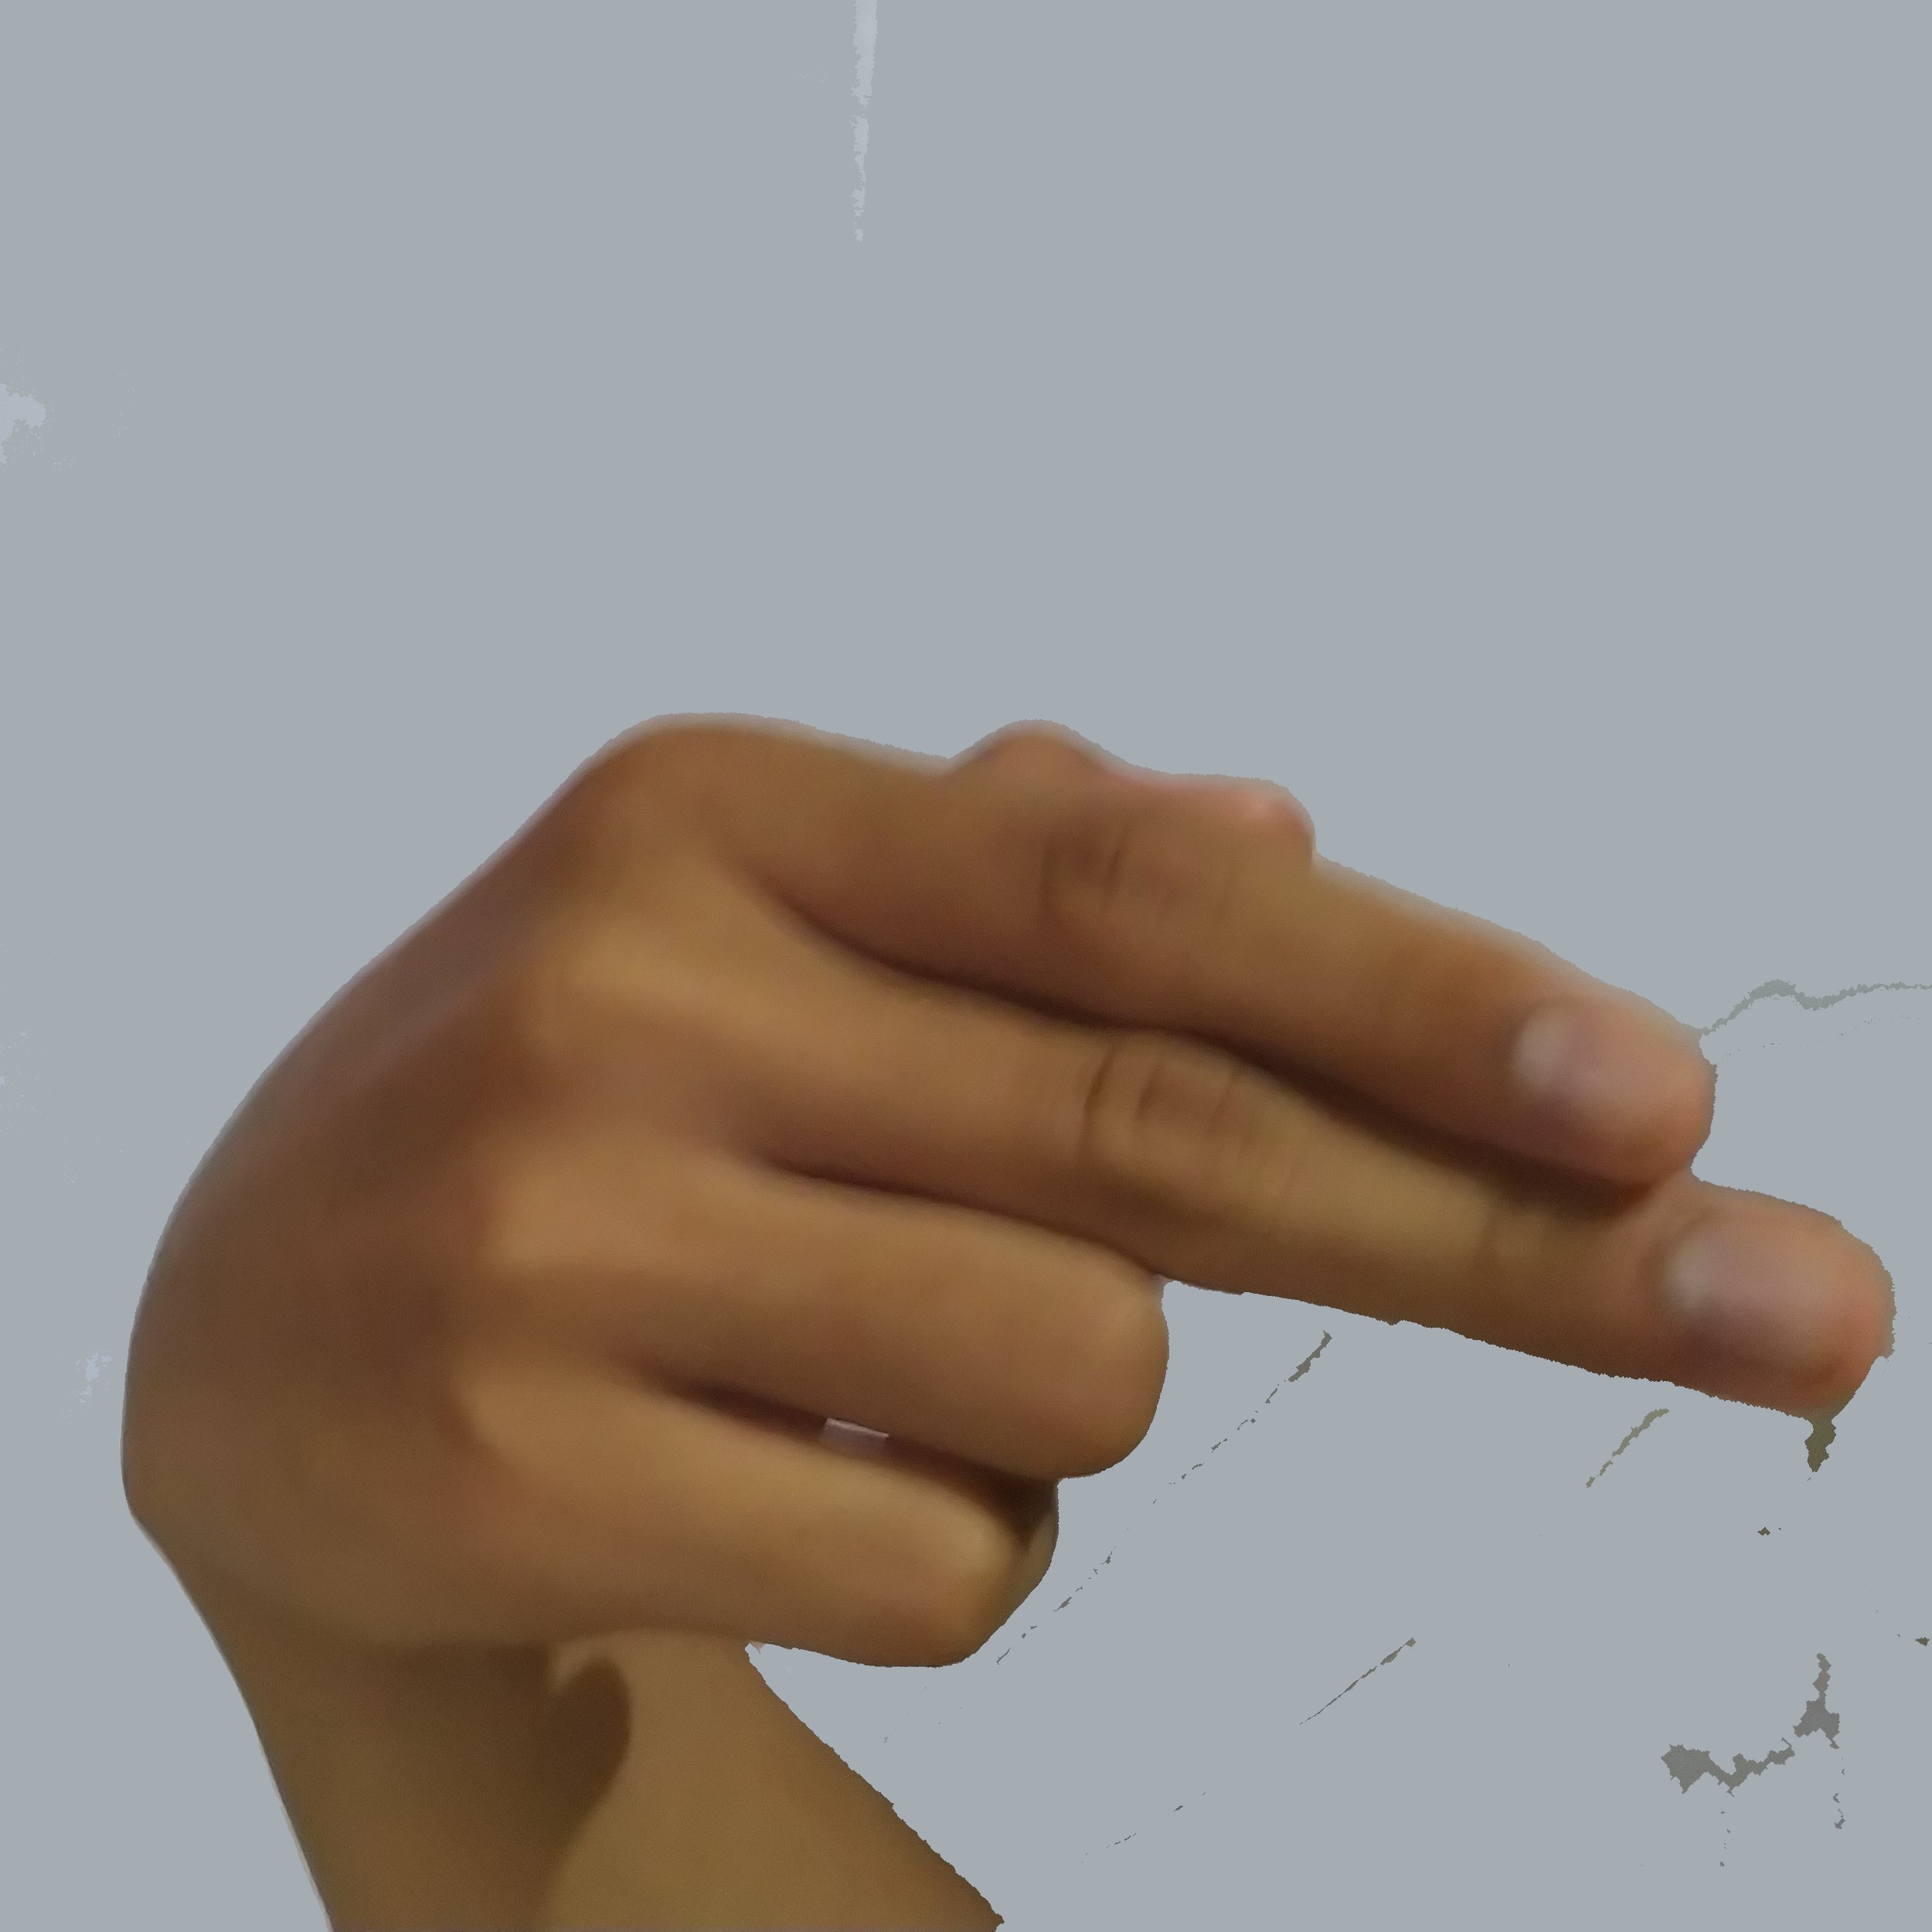H: (110, 688, 1902, 1688)
